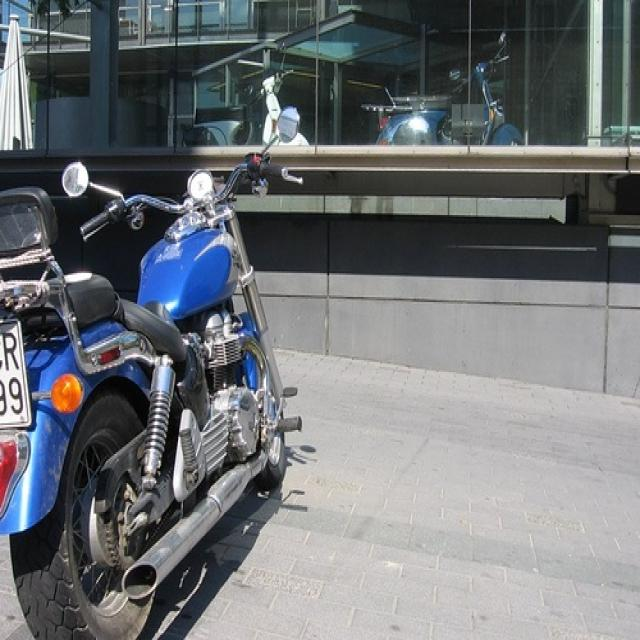motorbike: (2, 102, 308, 638), (371, 34, 535, 154), (183, 48, 315, 150)
